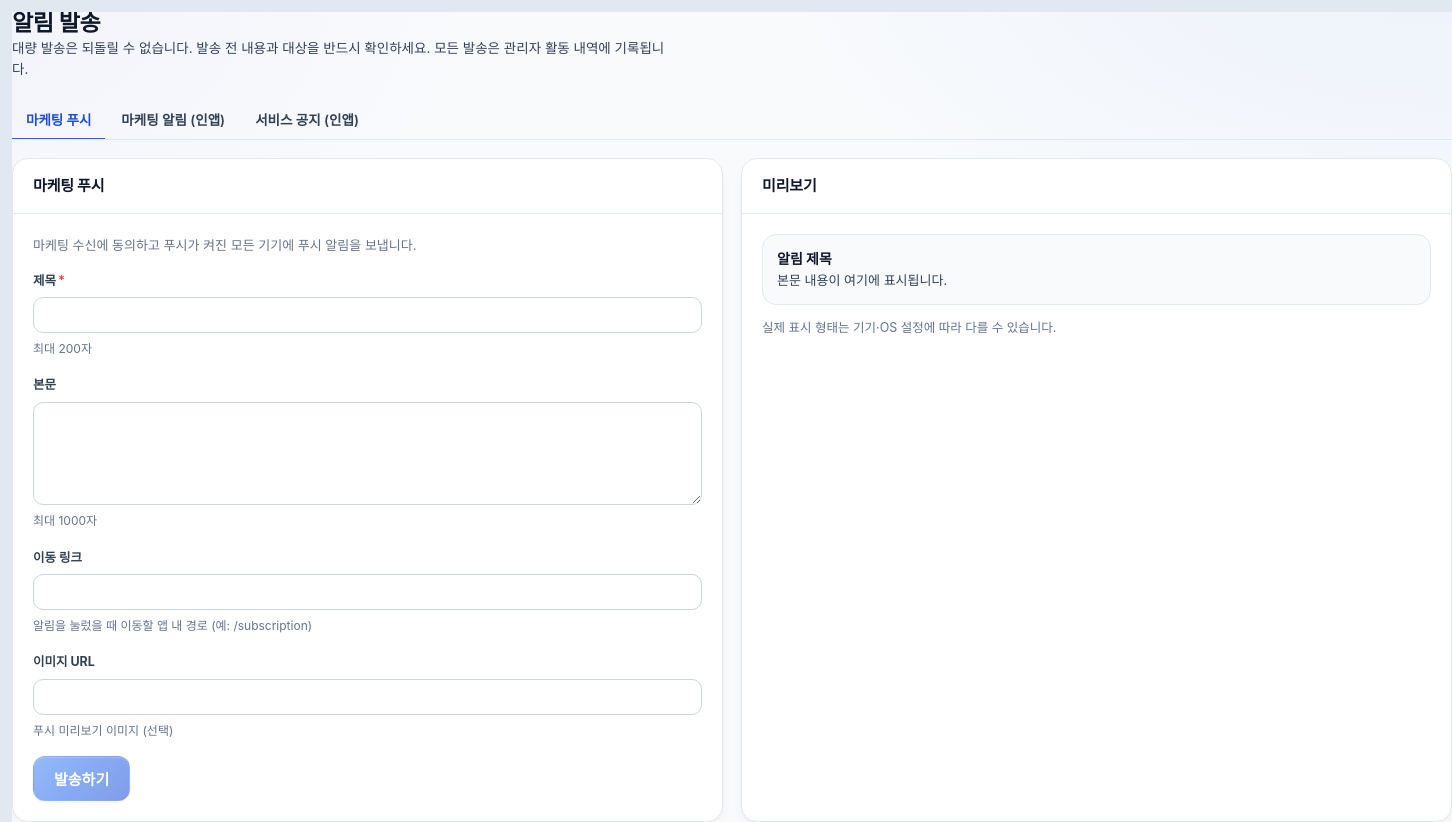
Test: notification preview › previews the title and body the admin is typing
Expected: the text "미리보기" shows "알림 제목", [777,250,832,267]
In the field labelled "제목* 최대 200자": {"x": 368, "y": 315} [33,297,702,333], type "점검 안내"
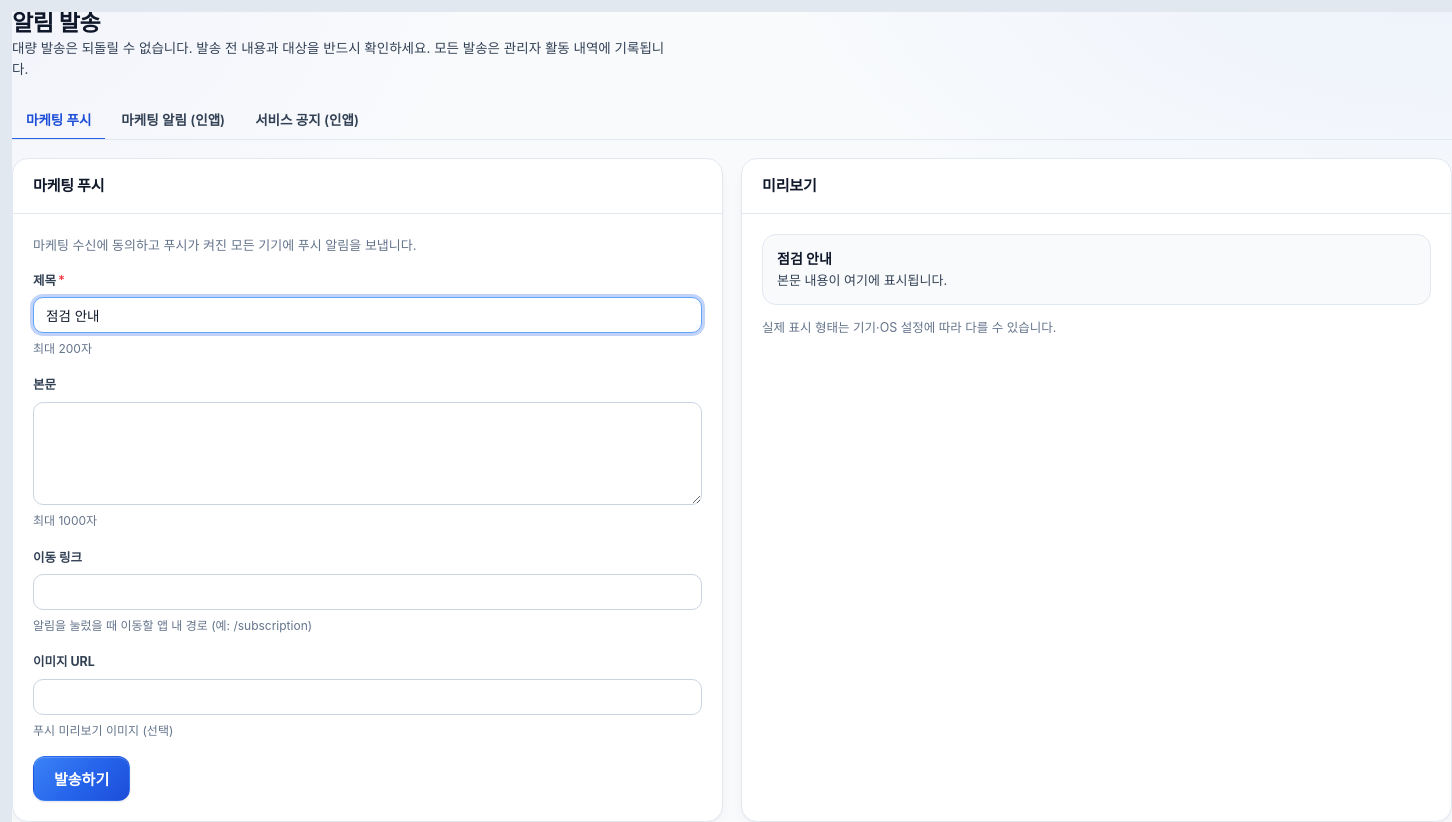
Expected: the text "미리보기" shows "점검 안내", [777,250,832,267]
Expected: the text "미리보기" no longer shows "알림 제목"
